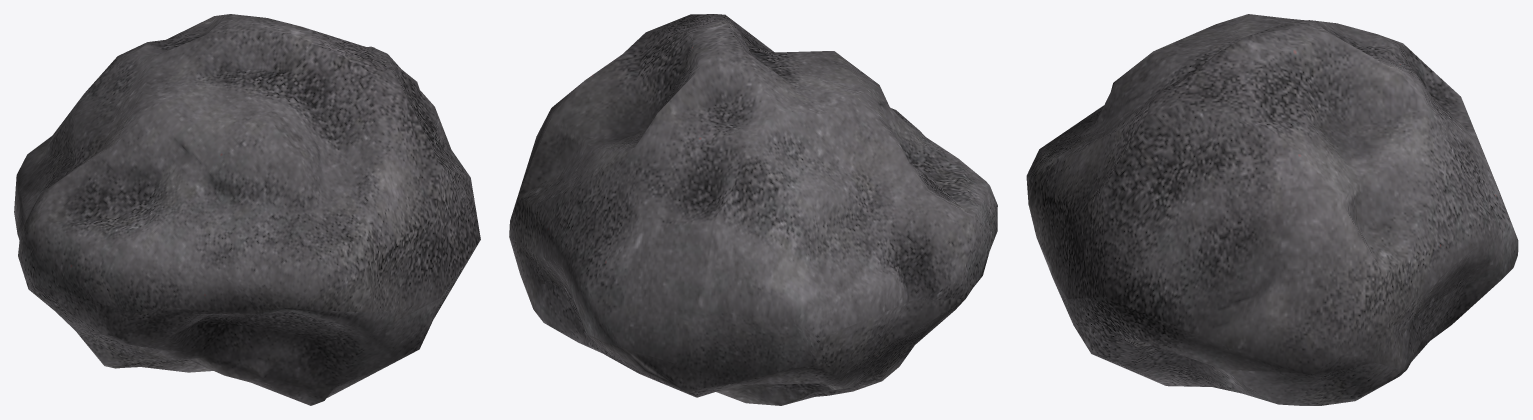
The model's file is Asteroid_03.FBX.
3 renders of one model, left to right at view 1: azimuth 30°, elevation 25°; view 2: azimuth 150°, elevation 25°; view 3: azimuth 270°, elevation 25°, orthographic. The views are drawn at different scales.
Visible parts, largest first — view 1: Asteroid_03; view 2: Asteroid_03; view 3: Asteroid_03.
Part boxes in pixels (x1,y1,x2,y2): Asteroid_03: [14, 14, 480, 405]; Asteroid_03: [509, 14, 997, 405]; Asteroid_03: [1026, 14, 1518, 405].
Size of what is drawn, in the model's own units: 78.51 by 60.32 by 75.
